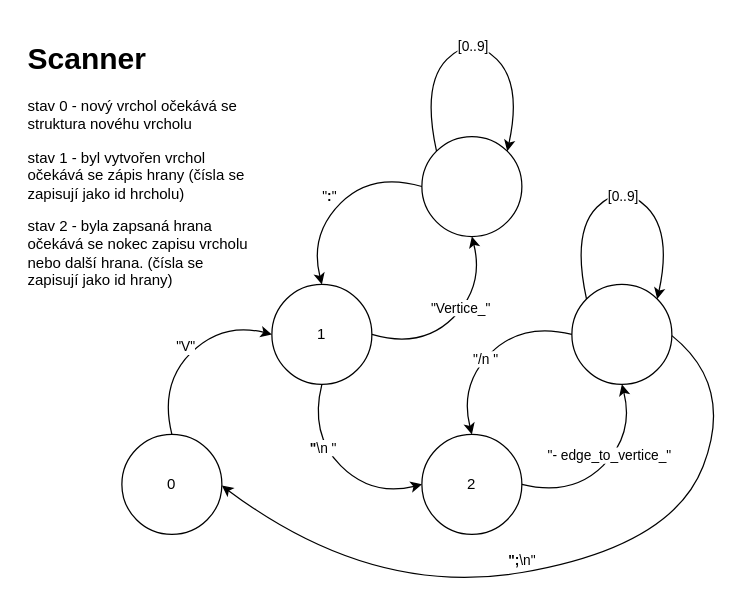
The diagram is 735 pixels wide and 599 high, and some of its shapes have lost their labels. The shapes that lost their labels are listed below. From the top down, each one's centre as x and y in pixels, then its label:
[471,185]: zápis id vrcholu
[621,333]: zápis id hrany
